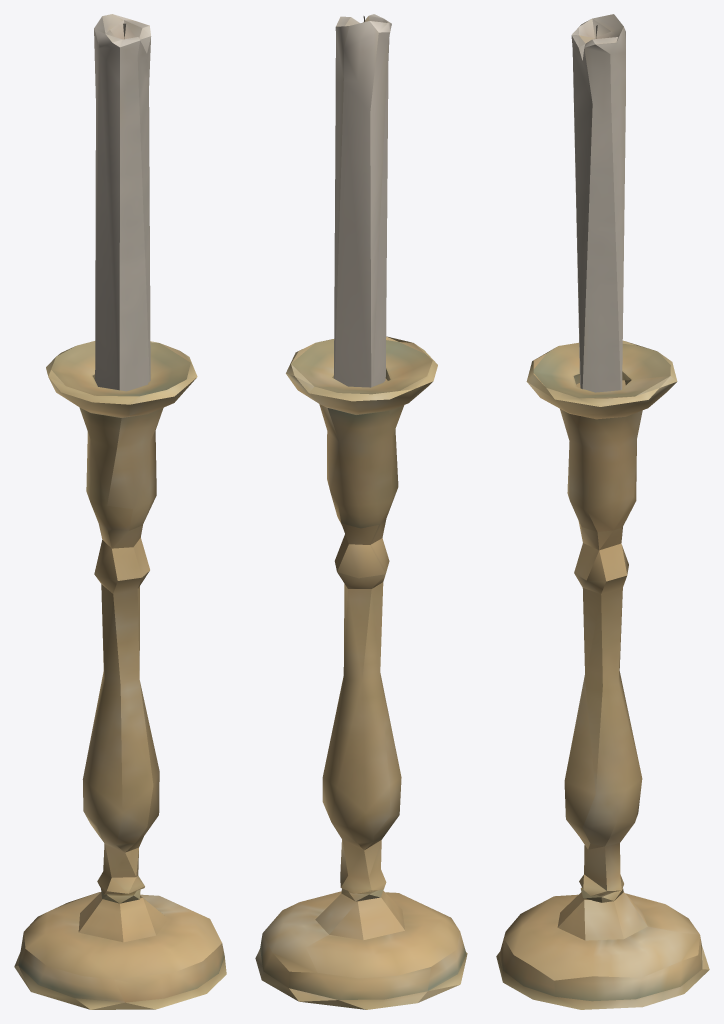
The model's file is candlestick-tall.lod1.glb.
3 renders of one model, left to right at view 1: azimuth 30°, elevation 25°; view 2: azimuth 150°, elevation 25°; view 3: azimuth 270°, elevation 25°, orthographic.
Visible parts, largest first — view 1: candlestick-tall; view 2: candlestick-tall; view 3: candlestick-tall.
Part boxes in pixels (x1,y1,x2,y2): candlestick-tall: (14, 14, 226, 1009); candlestick-tall: (255, 14, 467, 1009); candlestick-tall: (496, 14, 709, 1009).
Size of the model in its own units: 0.0848 by 0.4126 by 0.0845.
1 material, 1 textured.
